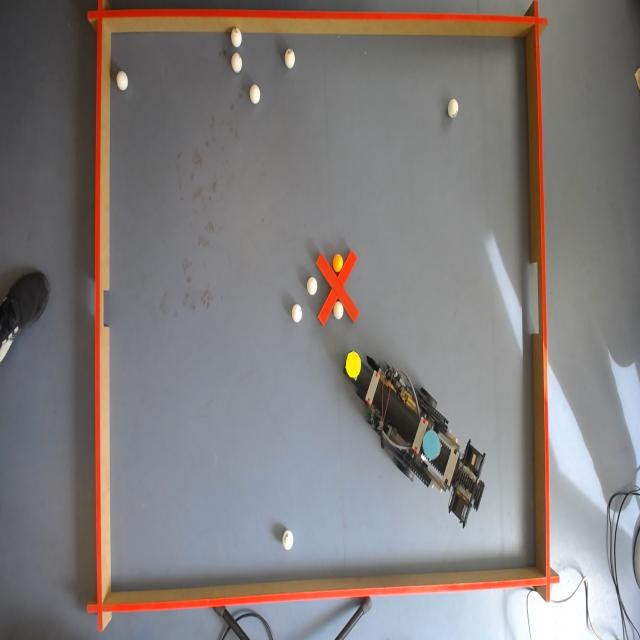orange: (333, 254, 343, 271)
robot: (342, 347, 485, 530)
robot-front: (346, 353, 360, 378)
robot-rear: (422, 428, 440, 460)
white: (116, 70, 128, 94), (248, 85, 261, 106), (285, 49, 298, 70), (282, 530, 294, 552), (231, 28, 243, 50), (232, 52, 244, 71), (447, 98, 458, 115), (334, 301, 344, 319), (293, 306, 304, 322), (307, 278, 317, 294)
